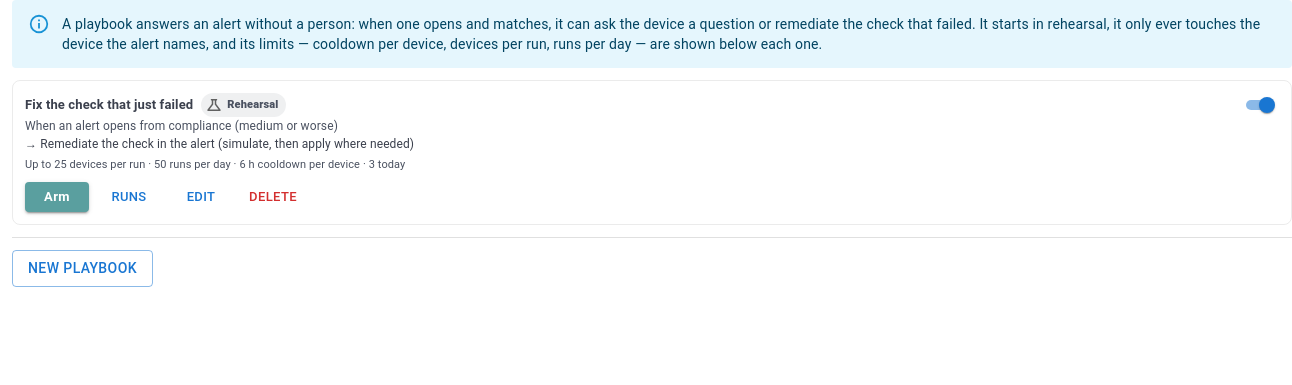
Test: PlaybooksTab › las corridas traducen el freno que las paró
Click the button "Runs" at (129, 197), box [97,182,161,212]
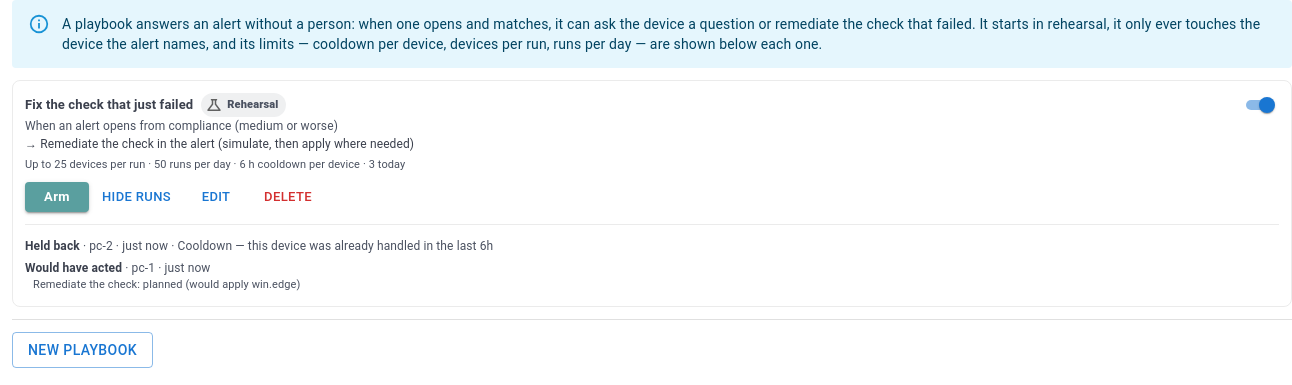
Expected: the text "Cooldown — this device was already handled in the last 6h" is shown, [168,239,493,253]
Expected: the text "Would have acted" is shown, [25,261,122,275]
Expected: the text "Remediate the check: planned (would apply win.edge)" is shown, [33,278,300,291]
